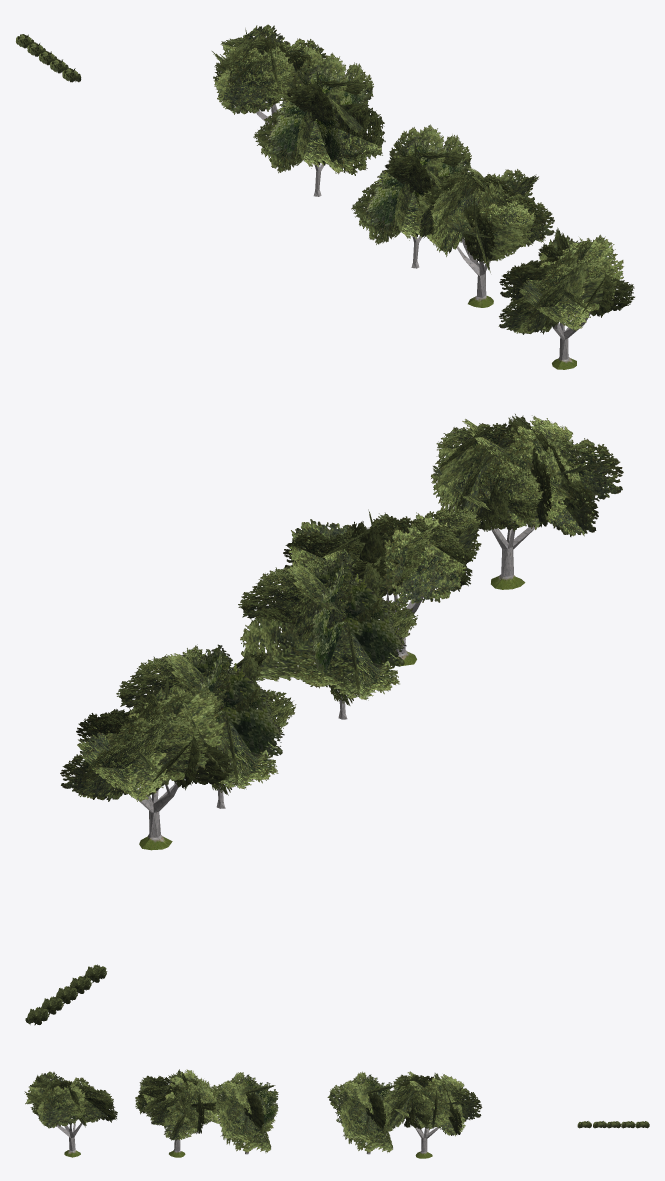
File: des_treeline1.obj
The picture shows the model from 3 angles, top to bottom: view 1: azimuth 30°, elevation 25°; view 2: azimuth 150°, elevation 25°; view 3: azimuth 270°, elevation 25°; orthographic projection. The views are drawn at different scales.
Parts seen in each view (by area): view 1: des_treeline1; view 2: des_treeline1; view 3: des_treeline1.
Part boxes in pixels (box(x1,y1,x2,y2)): des_treeline1: box(16, 24, 634, 369); des_treeline1: box(25, 414, 623, 1025); des_treeline1: box(24, 1069, 649, 1158).
Bounding box in the file's own units: 25.05 × 18.42 × 125.
7 materials, 7 textured.
